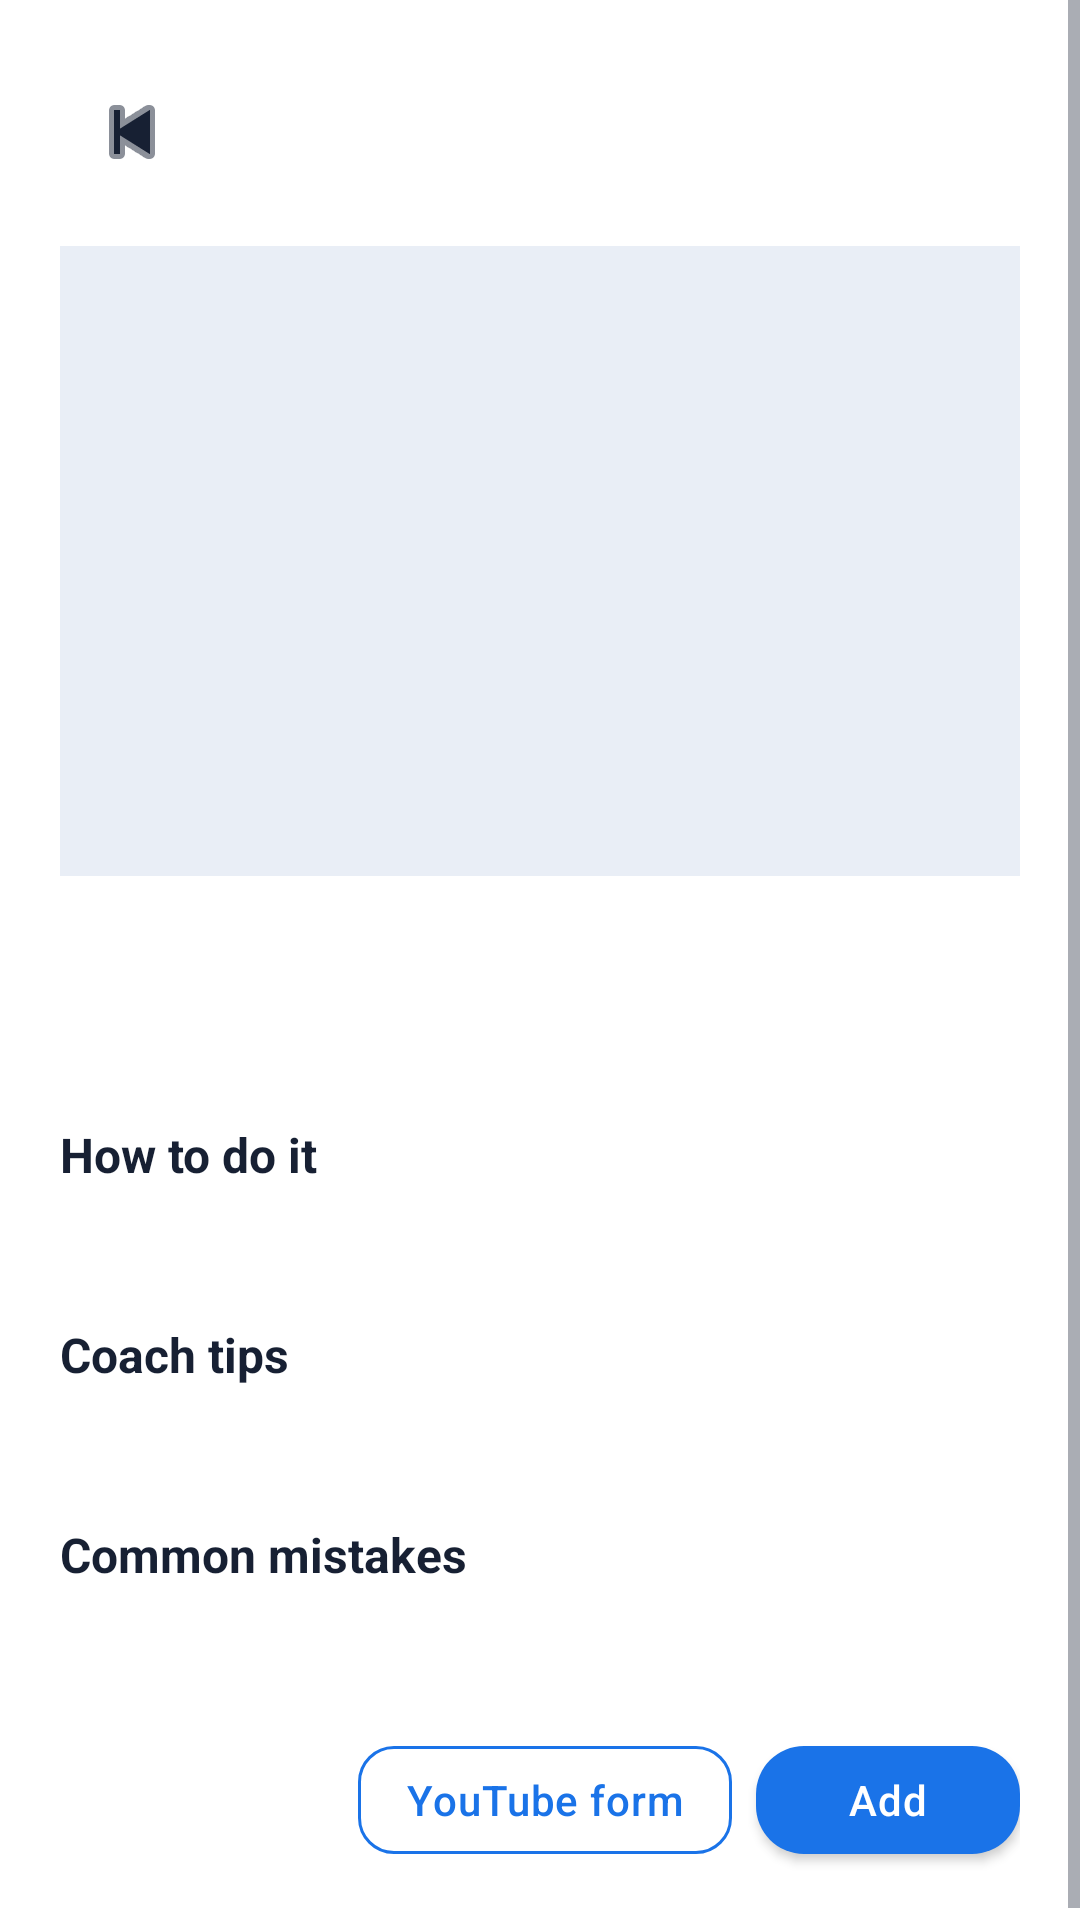

Icon click points for this 1080x1920 phone screenshot, format (x=x, y=y):
Back: (x=132, y=132)
